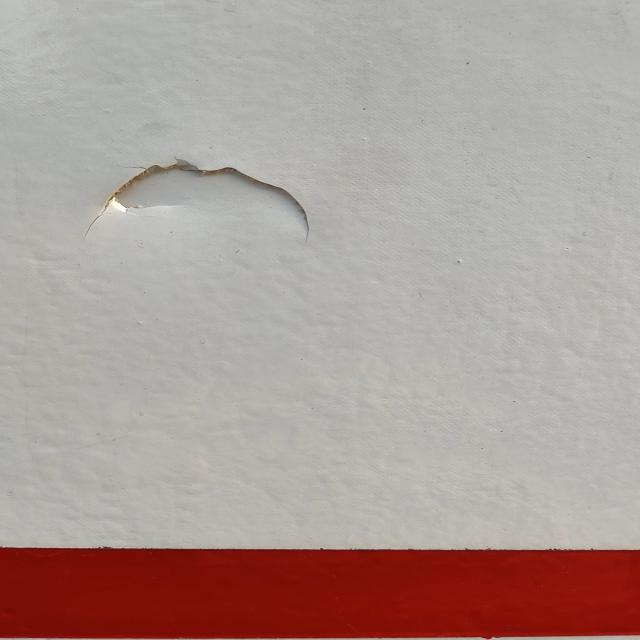Scratches: (78, 145, 313, 246)
